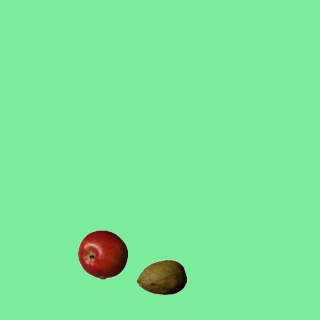Apple Braeburn: (77, 229, 127, 279)
Papaya: (136, 252, 186, 302)
